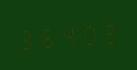four: (58, 20, 77, 49)
six: (38, 22, 57, 50)
three: (18, 23, 37, 52), (98, 17, 117, 46)
zero: (78, 19, 97, 47)
